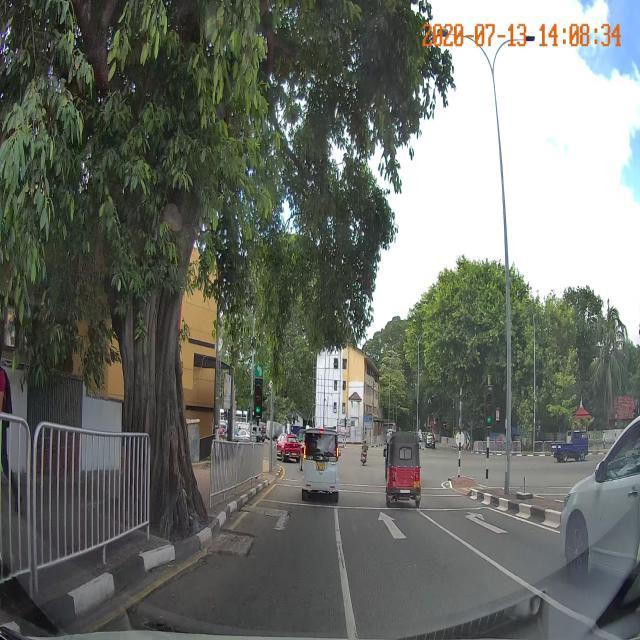forward: (333, 512, 481, 559)
